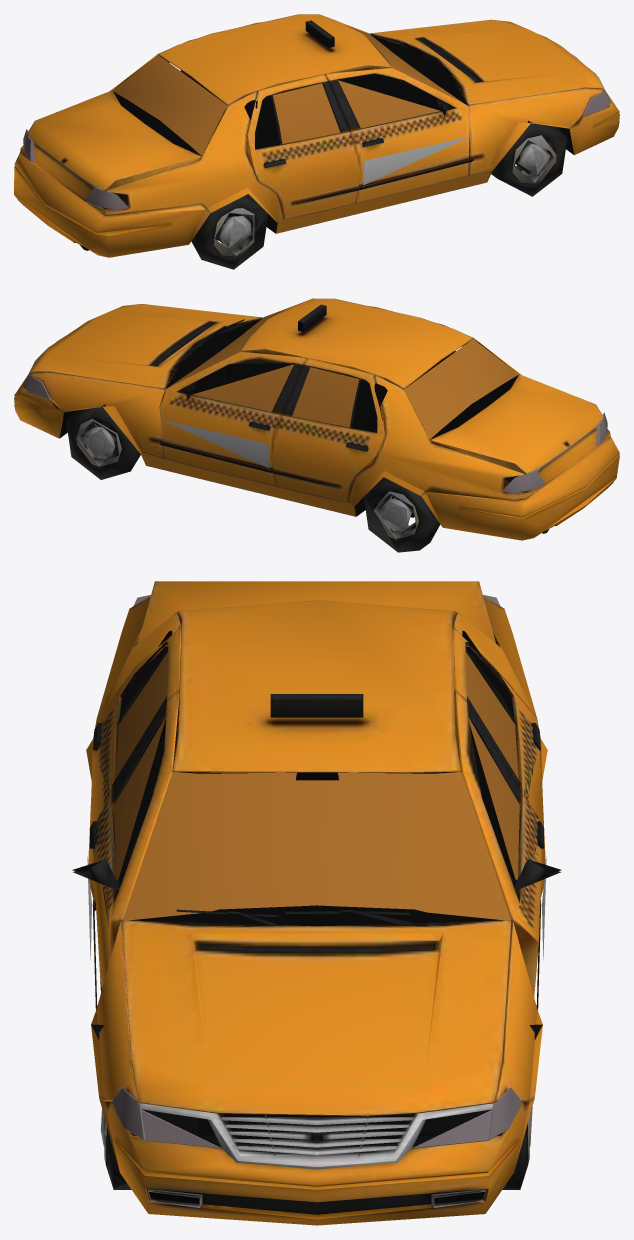
The model's file is civ-taxi.lod1.glb.
3 renders of one model, top to bottom at view 1: azimuth 30°, elevation 25°; view 2: azimuth 150°, elevation 25°; view 3: azimuth 270°, elevation 25°, orthographic. The views are drawn at different scales.
Parts seen in each view (by area): view 1: taxi_taxi_0, taxi_taxi_glass_0; view 2: taxi_taxi_0, taxi_taxi_glass_0; view 3: taxi_taxi_0, taxi_taxi_glass_0.
Boxes of the visible parts, x1,y1,x2,y2 form: taxi_taxi_0: [14, 14, 619, 269]; taxi_taxi_glass_0: [23, 25, 611, 210]; taxi_taxi_0: [14, 298, 619, 552]; taxi_taxi_glass_0: [22, 308, 607, 493]; taxi_taxi_0: [72, 581, 561, 1225]; taxi_taxi_glass_0: [87, 595, 546, 1148].
Bounding box in the file's own units: 5.09 × 1.5 × 1.98.
Materials: 2 (1 with a texture image).
